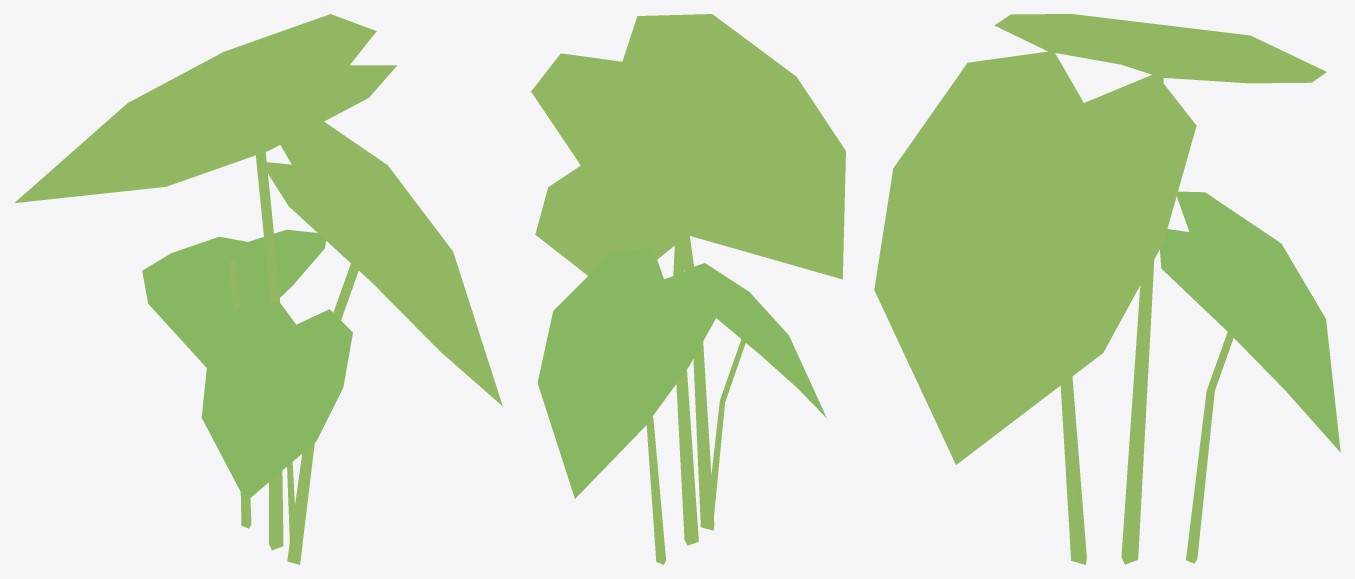
Rendered from Plant_d_OneS_07.fbx.
3 renders of one model, left to right at view 1: azimuth 30°, elevation 25°; view 2: azimuth 150°, elevation 25°; view 3: azimuth 270°, elevation 25°, orthographic. The views are drawn at different scales.
Parts seen in each view (by area): view 1: Plant_d_OneS_07; view 2: Plant_d_OneS_07; view 3: Plant_d_OneS_07.
Part boxes in pixels (x1=…): Plant_d_OneS_07: x1=15, y1=14, x2=502, y2=564; Plant_d_OneS_07: x1=531, y1=14, x2=845, y2=564; Plant_d_OneS_07: x1=874, y1=14, x2=1340, y2=564.
Size of the model in its own units: 0.6562 by 0.8117 by 0.6147.
